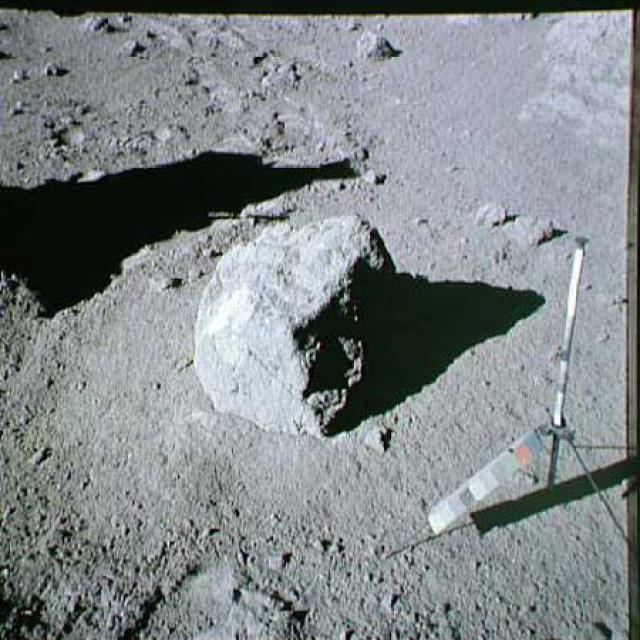artifact: (420, 230, 638, 542)
rock: (187, 201, 407, 443), (471, 188, 562, 255), (341, 26, 398, 72)
